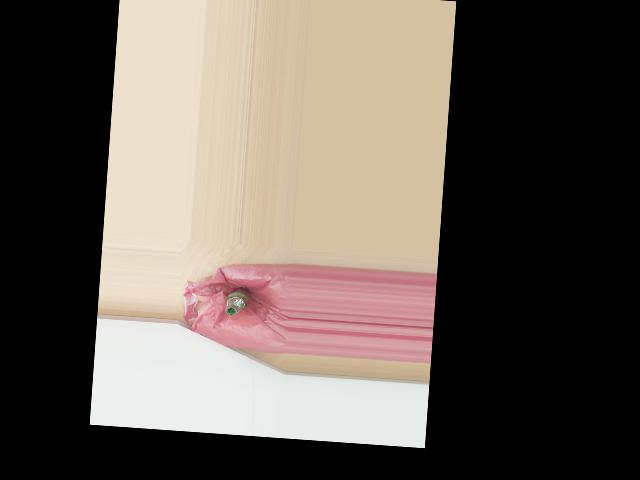beer: (225, 285, 250, 316)
